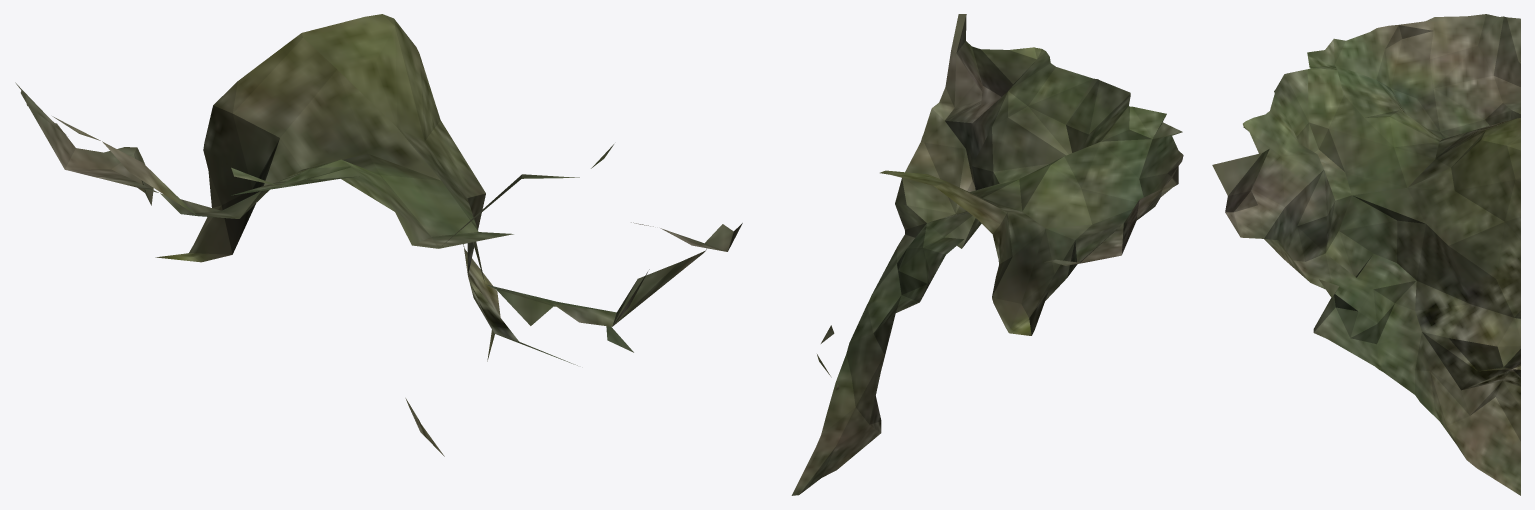
3 renders of one model, left to right at view 1: azimuth 30°, elevation 25°; view 2: azimuth 150°, elevation 25°; view 3: azimuth 270°, elevation 25°, orthographic. The views are drawn at different scales.
Bounding box in the file's own units: 2.22 × 2.21 × 1.88.
Materials: 1 (1 with a texture image).
